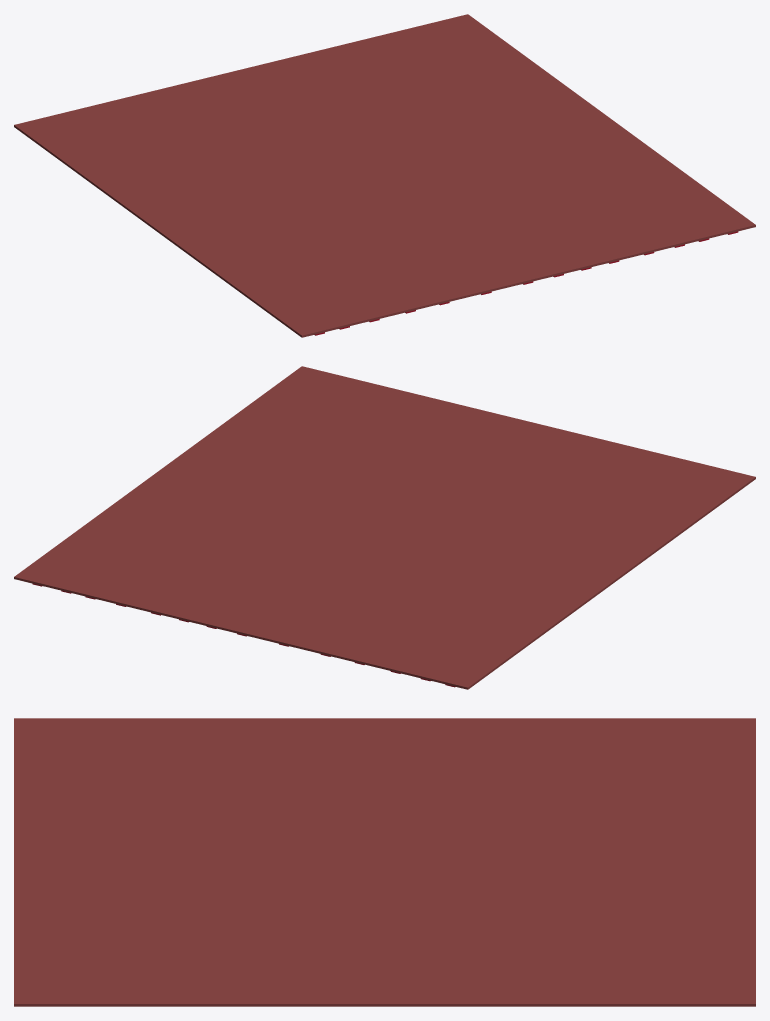
Rendered from Ceiling.glb.
The picture shows the model from 3 angles, top to bottom: view 1: azimuth 30°, elevation 25°; view 2: azimuth 150°, elevation 25°; view 3: azimuth 270°, elevation 25°; orthographic projection. The views are drawn at different scales.
Parts seen in each view (by area): view 1: Cube.006; view 2: Cube.006; view 3: Cube.006.
Part boxes in pixels (x1,y1,x2,y2): Cube.006: [14, 14, 755, 337]; Cube.006: [14, 366, 755, 689]; Cube.006: [14, 718, 755, 1006].
Bounding box in the file's own units: 121 × 0.9411 × 133.
